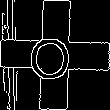O_N: (32, 29, 78, 81)
